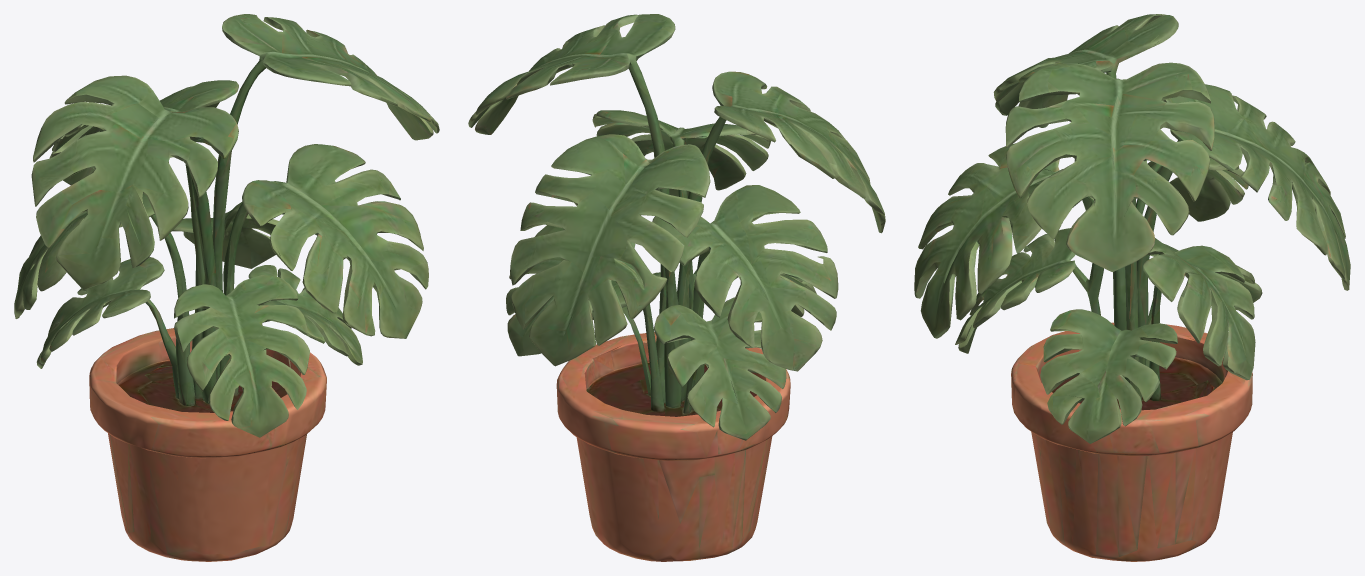
The model's file is plant.glb.
3 views of the same model, side by side, from view 1: azimuth 30°, elevation 25°; view 2: azimuth 150°, elevation 25°; view 3: azimuth 270°, elevation 25° (orthographic). The views are drawn at different scales.
Bounding box in the file's own units: 1.62 × 1.9 × 1.55.
Materials: 1 (1 with a texture image).
